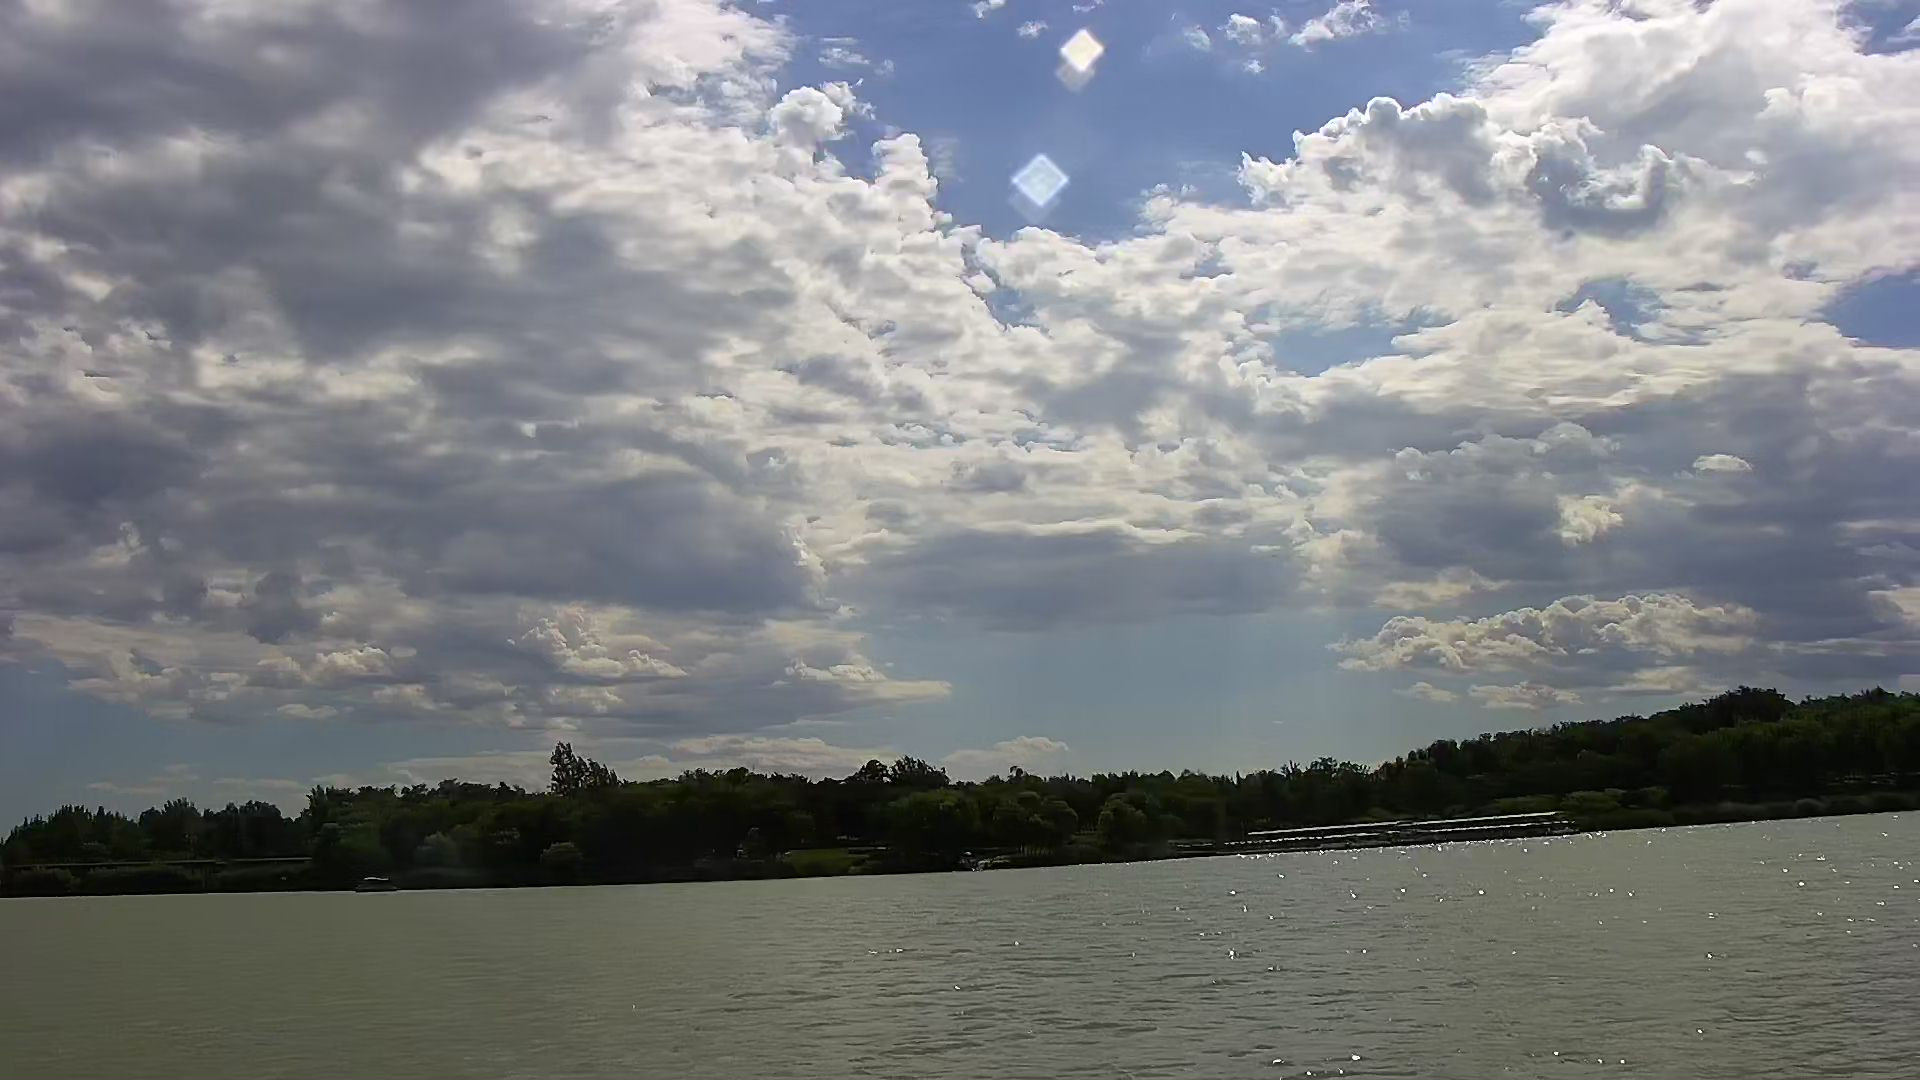harbor: (1217, 806, 1577, 855)
